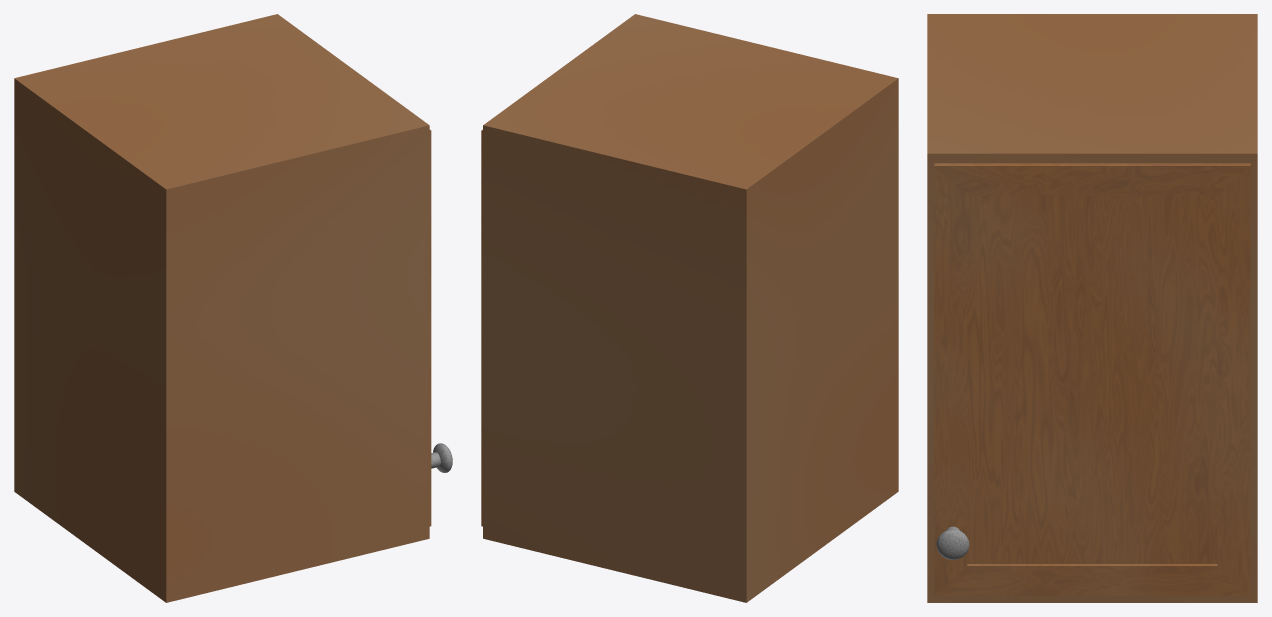
The model's file is TopCabinet_solo-single-left.glb.
3 views of the same model, side by side, from view 1: azimuth 30°, elevation 25°; view 2: azimuth 150°, elevation 25°; view 3: azimuth 270°, elevation 25° (orthographic). The views are drawn at different scales.
Visible parts, largest first — view 1: mesh; view 2: mesh; view 3: mesh.
Part boxes in pixels (x1,y1,x2,y2): mesh: (14,14,452,602); mesh: (481,14,898,602); mesh: (927,14,1257,602).
Size of the model in its own units: 2.24 by 3 by 2.
Materials: 1 (1 with a texture image).
